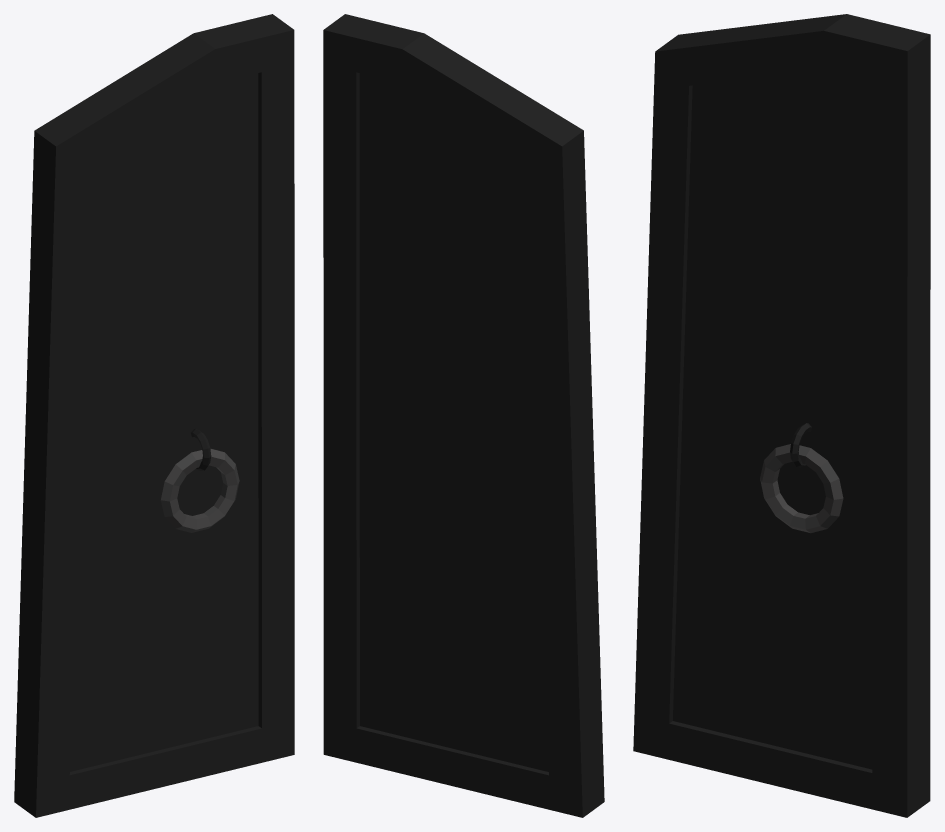
Rendered from winter-castle-door-l.glb.
3 renders of one model, left to right at view 1: azimuth 30°, elevation 25°; view 2: azimuth 150°, elevation 25°; view 3: azimuth 330°, elevation 25°, orthographic. The views are drawn at different scales.
Parts seen in each view (by area): view 1: WinterCastleDoor_L; view 2: WinterCastleDoor_L; view 3: WinterCastleDoor_L.
Part boxes in pixels (bbox=[...]): WinterCastleDoor_L: bbox=[14, 14, 294, 817]; WinterCastleDoor_L: bbox=[323, 14, 604, 817]; WinterCastleDoor_L: bbox=[633, 14, 930, 817].
Bounding box in the file's own units: 130 × 347 × 29.24.
1 material, 1 textured.
